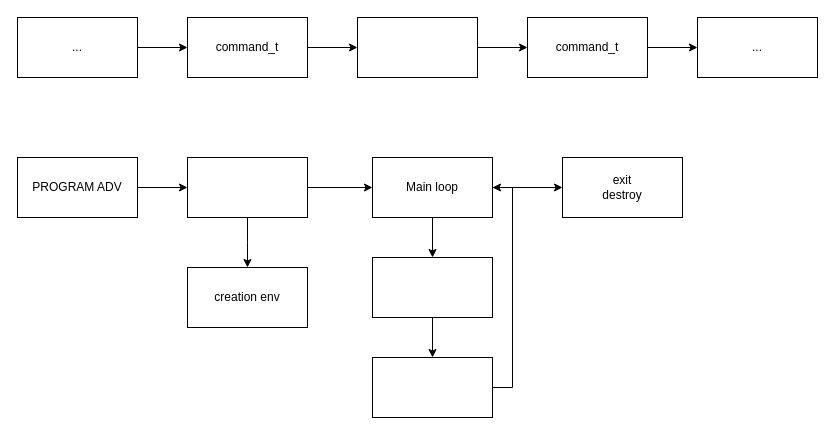
Some shapes in this 835 by 435 pixel diagram are drawn without their labels. The centre of each missing label's shape, as x and y in pixels:
"exec loop" goes at [432,387].
"INITIALISATION" goes at [247,187].
"Parsing" goes at [432,287].
"separator_t" goes at [417,47].
